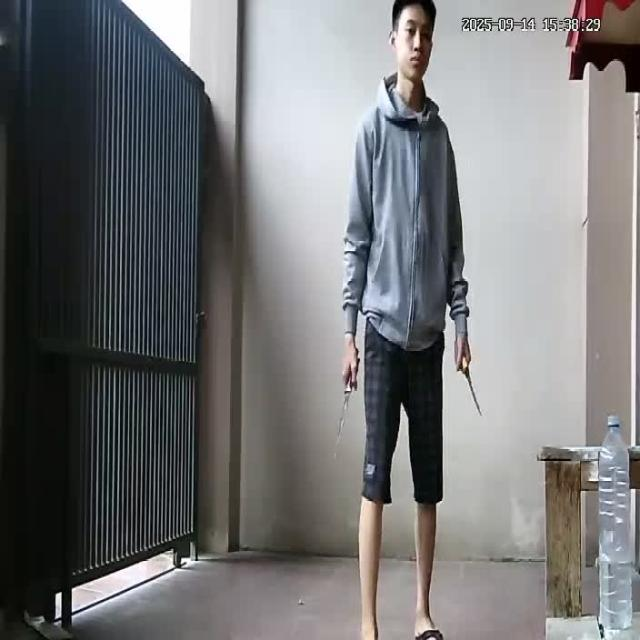senjata_tajam: (331, 388, 355, 472), (460, 356, 485, 419)
